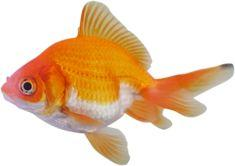goldfish: (2, 22, 209, 142)
